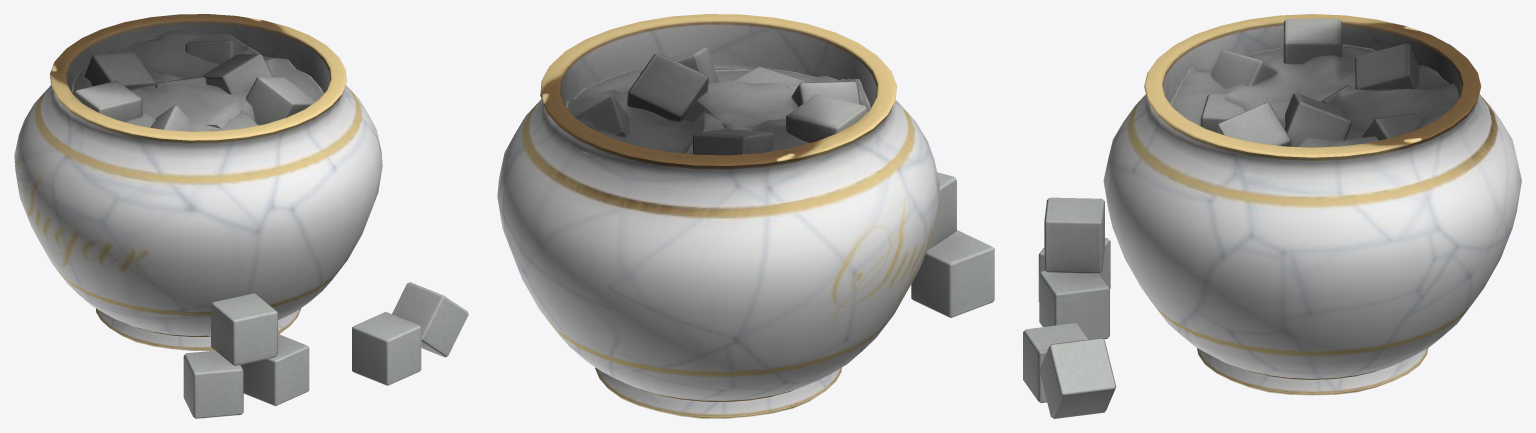
Rendered from sugar in bowl .fbx.
3 renders of one model, left to right at view 1: azimuth 30°, elevation 25°; view 2: azimuth 150°, elevation 25°; view 3: azimuth 270°, elevation 25°, orthographic. The views are drawn at different scales.
Parts seen in each view (by area): view 1: Sugarbowl; view 2: Sugarbowl; view 3: Sugarbowl.
Boxes of the visible parts, x1,y1,x2,y2 form: Sugarbowl: (14,14,468,418); Sugarbowl: (497,14,994,418); Sugarbowl: (1023,14,1521,418).
Size of the model in its own units: 16.17 by 11.93 by 19.28.
